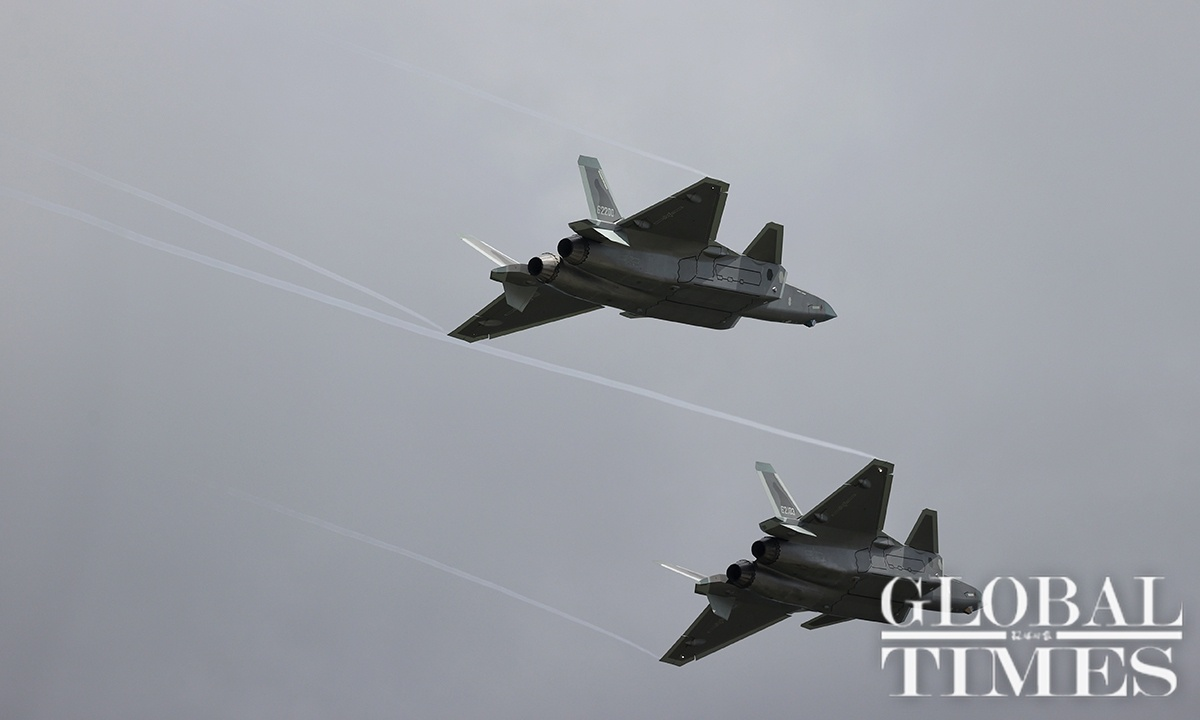J20: (445, 154, 838, 344), (650, 457, 989, 668)
